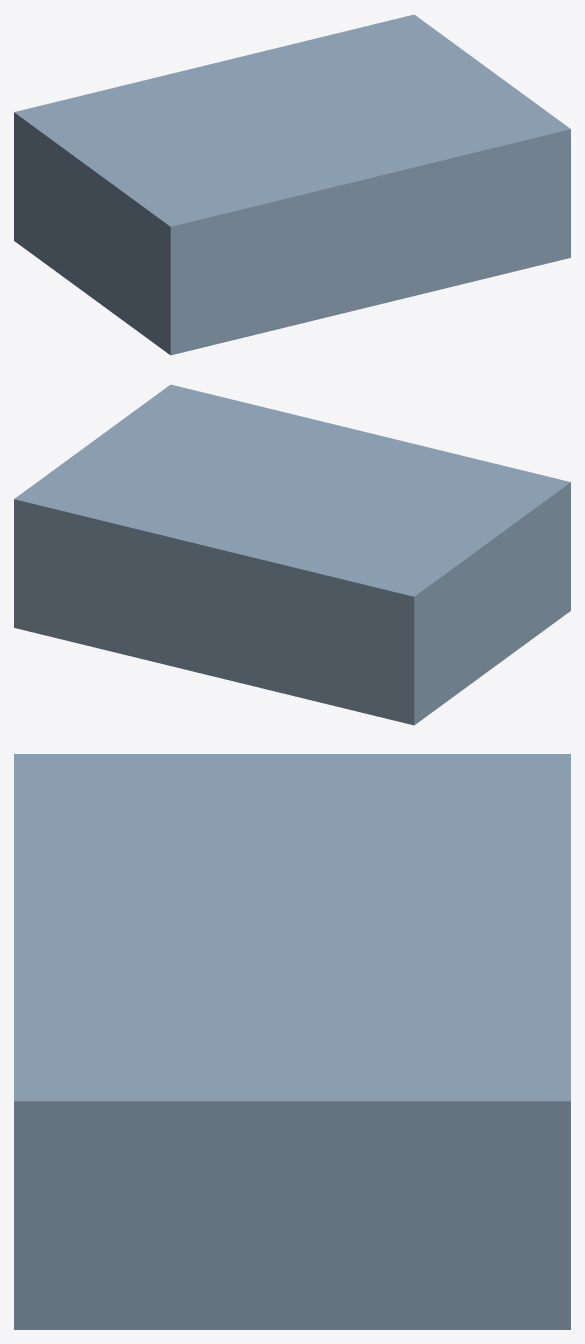
File: walk01.fbx
3 views of the same model, one above another, from view 1: azimuth 30°, elevation 25°; view 2: azimuth 150°, elevation 25°; view 3: azimuth 270°, elevation 25° (orthographic). The views are drawn at different scales.
Visible parts, largest first — view 1: pCube2; view 2: pCube2; view 3: pCube2.
Part boxes in pixels (x1,y1,x2,y2): pCube2: (14, 14, 570, 355); pCube2: (14, 384, 570, 725); pCube2: (14, 754, 570, 1329).
Size of the model in its own units: 5816 by 1790 by 3942.
